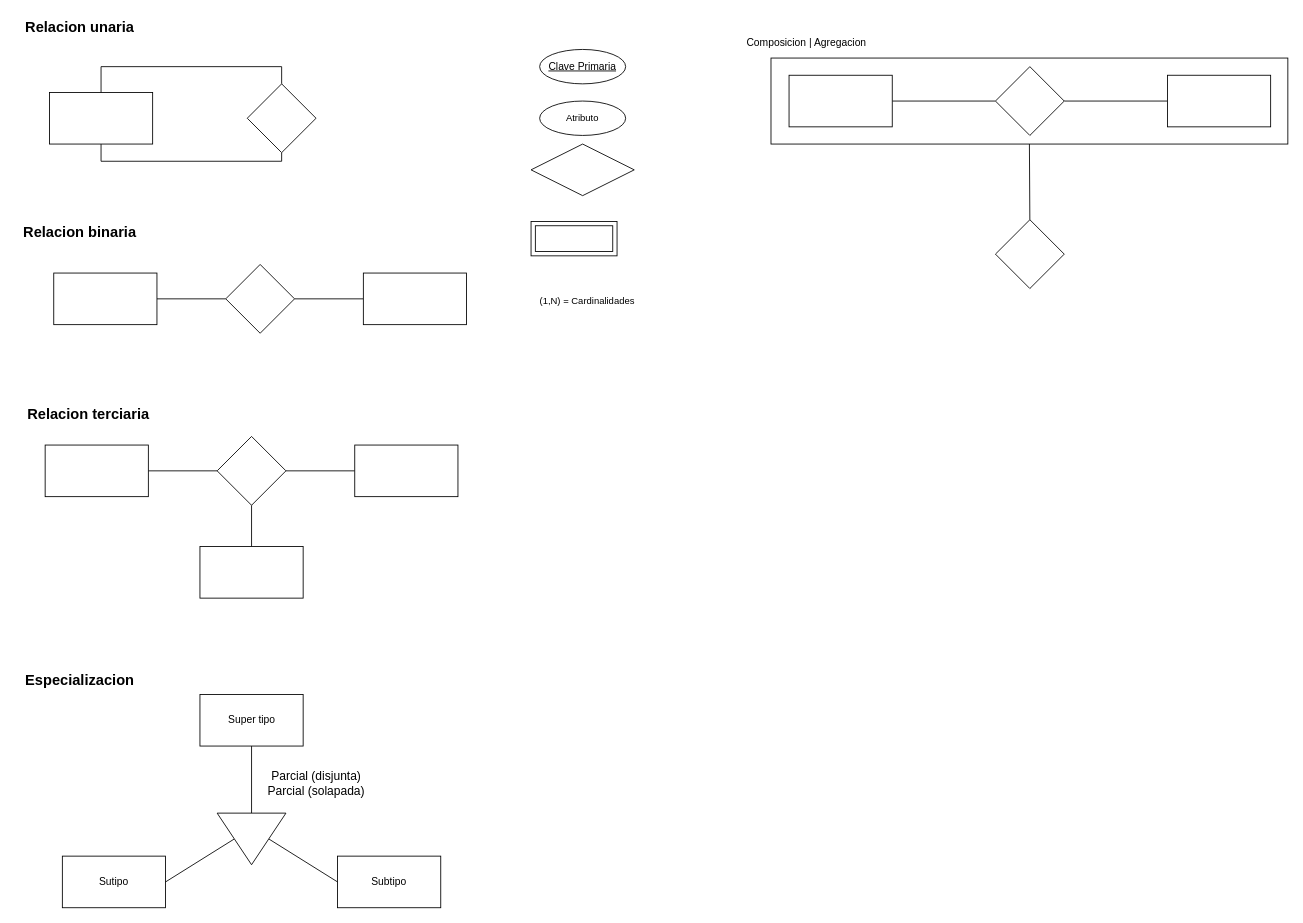
The diagram is 1303 pixels wide and 923 high, and some of its shapes have lost their labels. Here are the shapes that lost their labels. From the top down, the centre of each, then its label:
pixel 582 169: Relationship
pixel 573 238: Entidad debil
